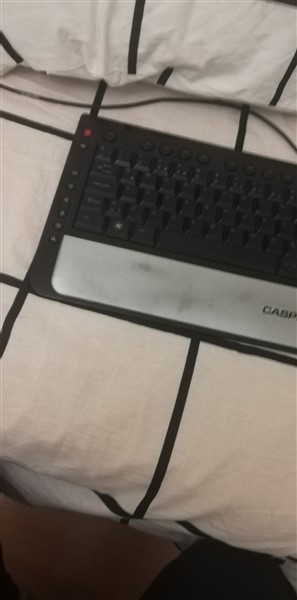klavye: (29, 113, 295, 371)
